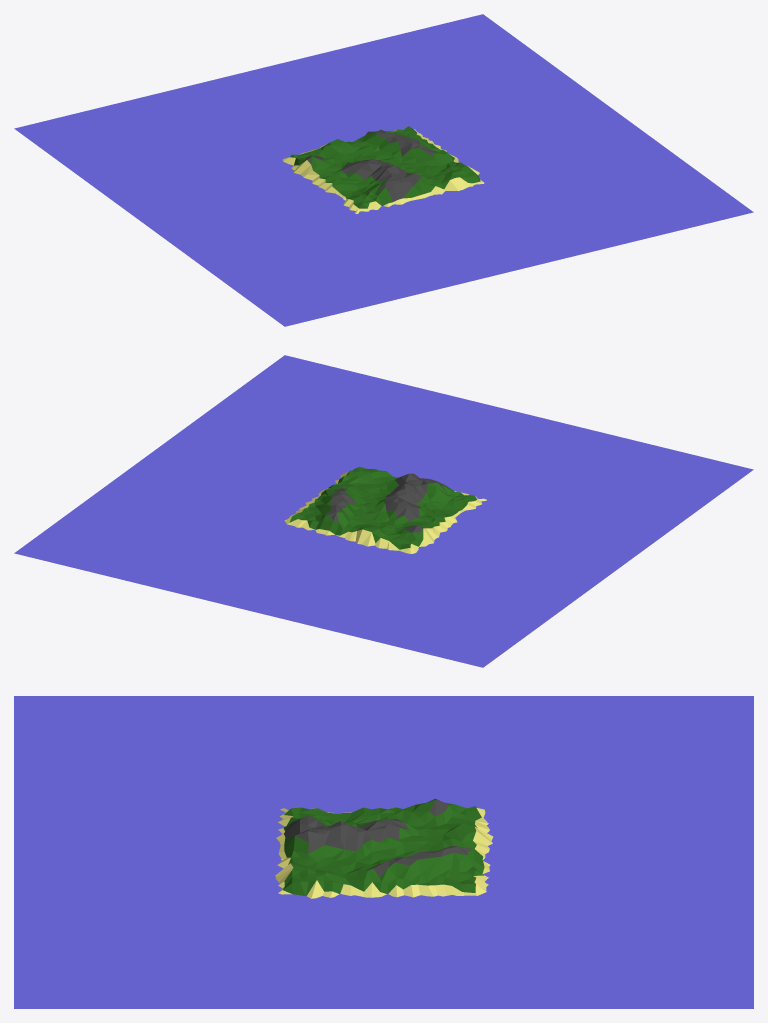
3 views of the same model, one above another, from view 1: azimuth 30°, elevation 25°; view 2: azimuth 150°, elevation 25°; view 3: azimuth 270°, elevation 25° (orthographic). The views are drawn at different scales.
Visible parts, largest first — view 1: Plane.001, Plane; view 2: Plane.001, Plane; view 3: Plane.001, Plane.
Boxes of the visible parts, box(x1,y1,x2,y2) form: Plane.001: box(14, 14, 753, 326); Plane: box(282, 126, 484, 213); Plane.001: box(14, 355, 753, 667); Plane: box(284, 466, 486, 553); Plane.001: box(14, 696, 753, 1008); Plane: box(275, 798, 493, 898).
Size of the model in its own units: 6000 by 464 by 6000.
